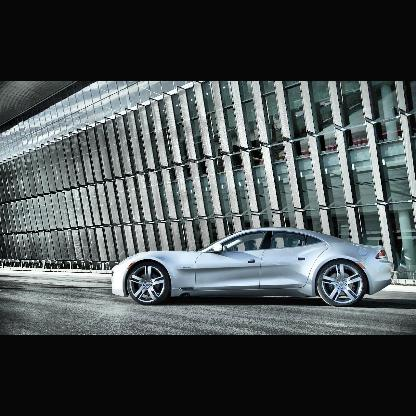Fisker Karma Sedan 2012: (111, 227, 395, 308)
